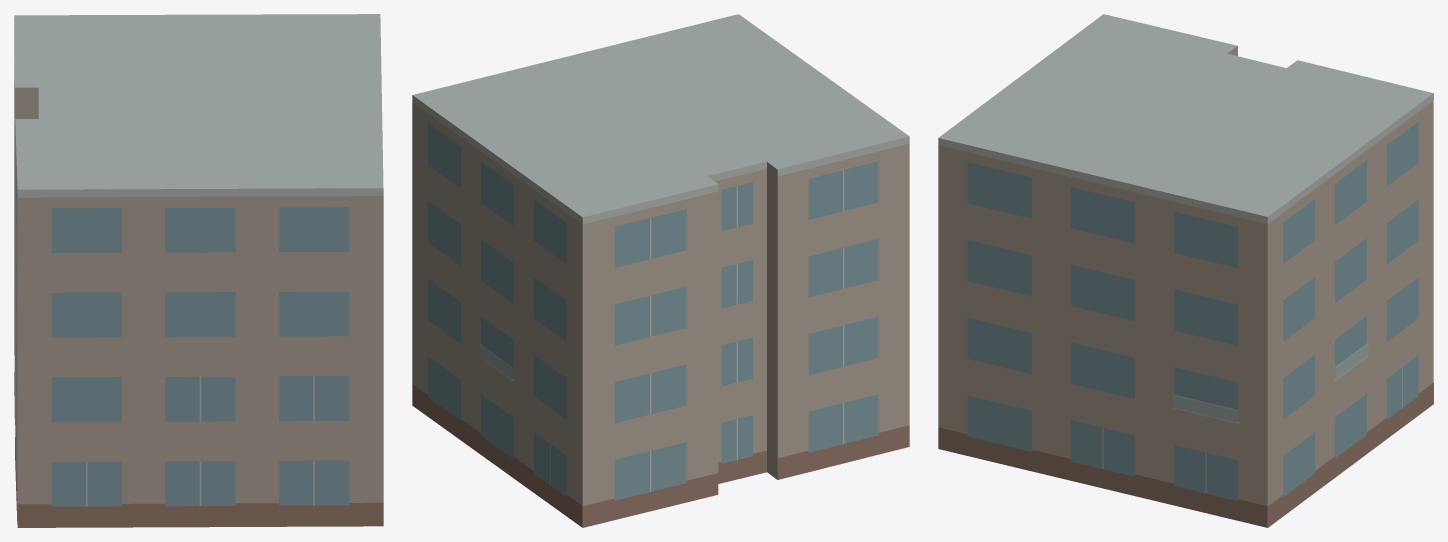
Rendered from survey-upis-32666458.glb.
3 views of the same model, side by side, from view 1: azimuth 30°, elevation 25°; view 2: azimuth 150°, elevation 25°; view 3: azimuth 270°, elevation 25° (orthographic). The views are drawn at different scales.
Visible parts, largest first — view 1: survey-upis-32666458.tmp; view 2: survey-upis-32666458.tmp; view 3: survey-upis-32666458.tmp.
Part boxes in pixels (x1=…): survey-upis-32666458.tmp: x1=14, y1=14, x2=383, y2=527; survey-upis-32666458.tmp: x1=412, y1=14, x2=909, y2=527; survey-upis-32666458.tmp: x1=938, y1=14, x2=1433, y2=527.
Bounding box in the file's own units: 14.7 × 10.5 × 15.17.
